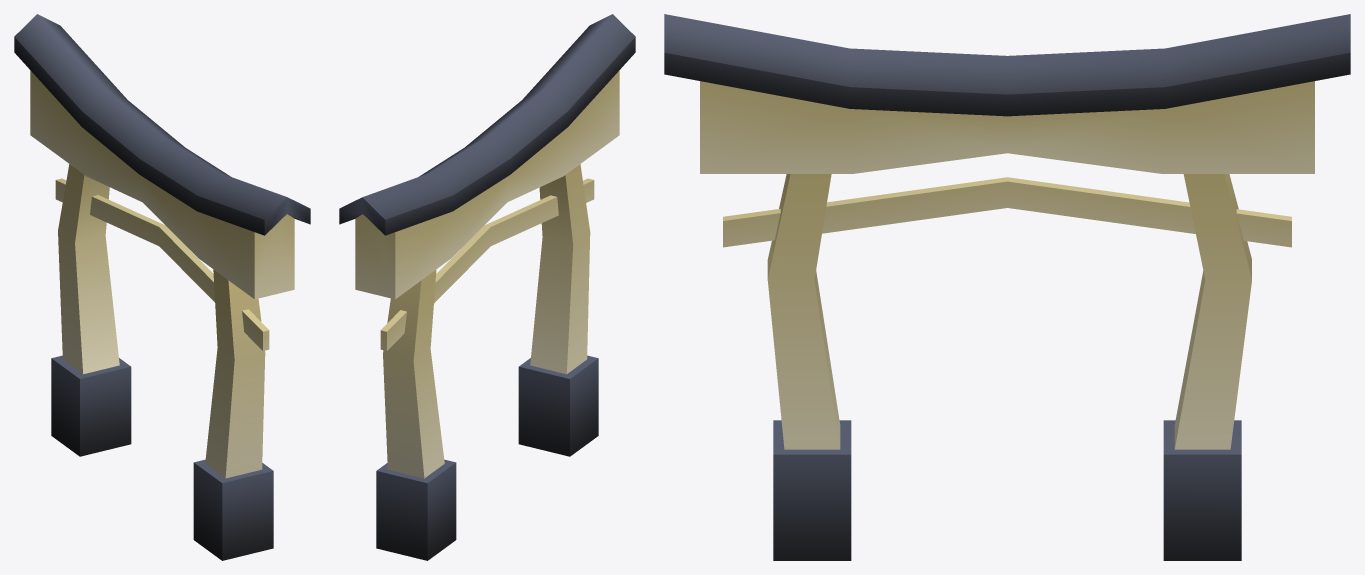
Rendered from m_toriigatePortal.fbx.
3 renders of one model, left to right at view 1: azimuth 30°, elevation 25°; view 2: azimuth 150°, elevation 25°; view 3: azimuth 270°, elevation 25°, orthographic. The views are drawn at different scales.
Parts seen in each view (by area): view 1: ToriiGatePortal; view 2: ToriiGatePortal; view 3: ToriiGatePortal.
Part boxes in pixels (x1,y1,x2,y2): ToriiGatePortal: (14,14,310,560); ToriiGatePortal: (339,14,635,560); ToriiGatePortal: (664,14,1350,560).
Size of the model in its own units: 24.82 by 179 by 210.
